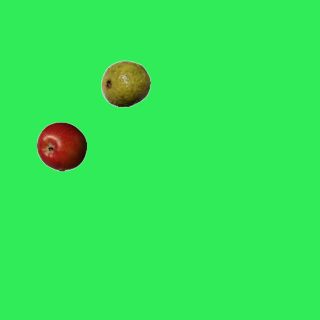Apple Braeburn: (36, 121, 86, 171)
Guava: (100, 58, 150, 108)
